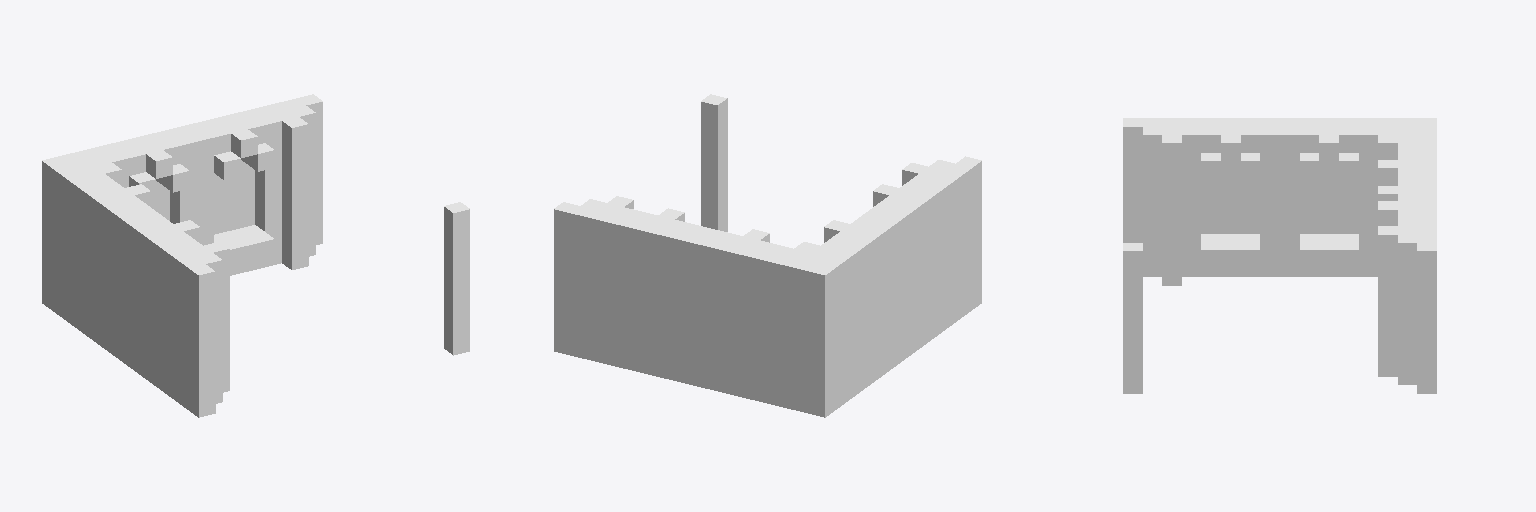
File: towar-33.obj
The picture shows the model from 3 angles: view 1: azimuth 30°, elevation 25°; view 2: azimuth 150°, elevation 25°; view 3: azimuth 270°, elevation 25°; orthographic projection.
Parts seen in each view (by area): view 1: towar-33; view 2: towar-33; view 3: towar-33.
Part boxes in pixels (x1,y1,x2,y2): towar-33: (42,94,469,417); towar-33: (554,94,981,417); towar-33: (1123,118,1436,393).
Bounding box in the file's own units: 16 × 8 × 16.